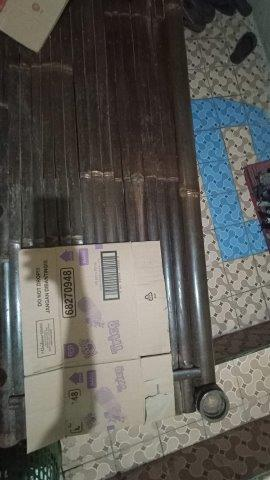kardus: (21, 243, 174, 451)
